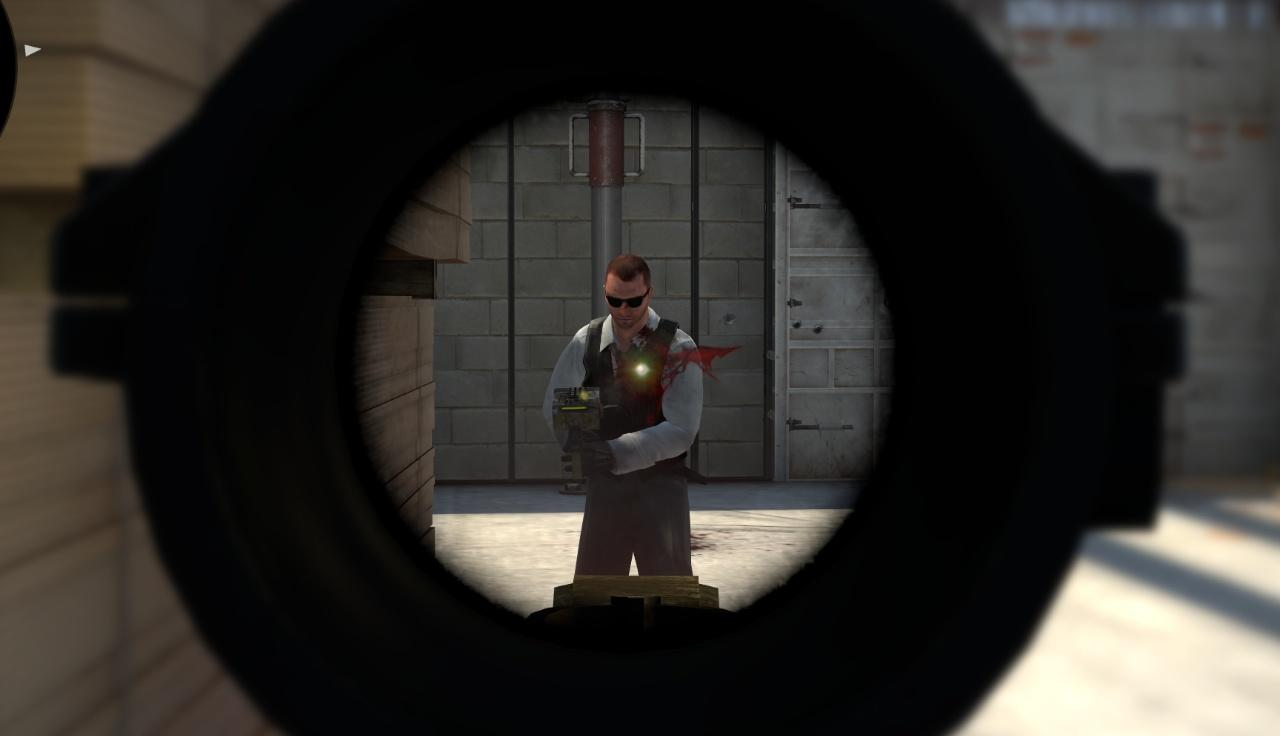tt: (560, 252, 703, 573)
tthead: (602, 255, 651, 326)
